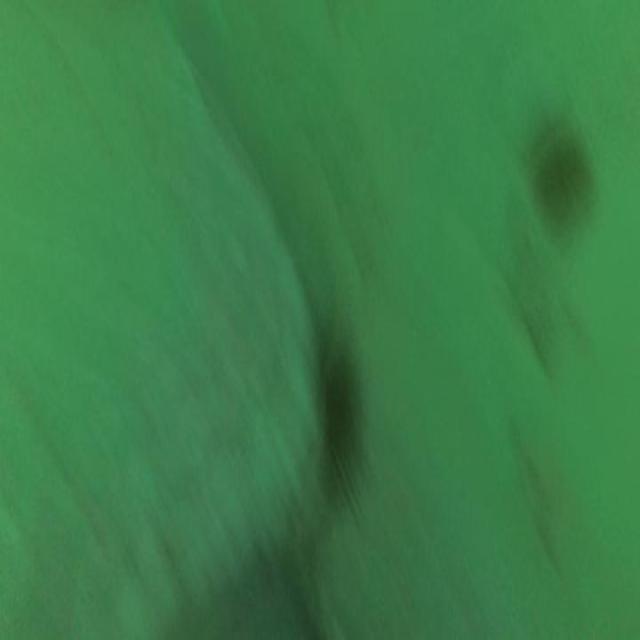echinus: (309, 316, 366, 515), (530, 117, 596, 235)
